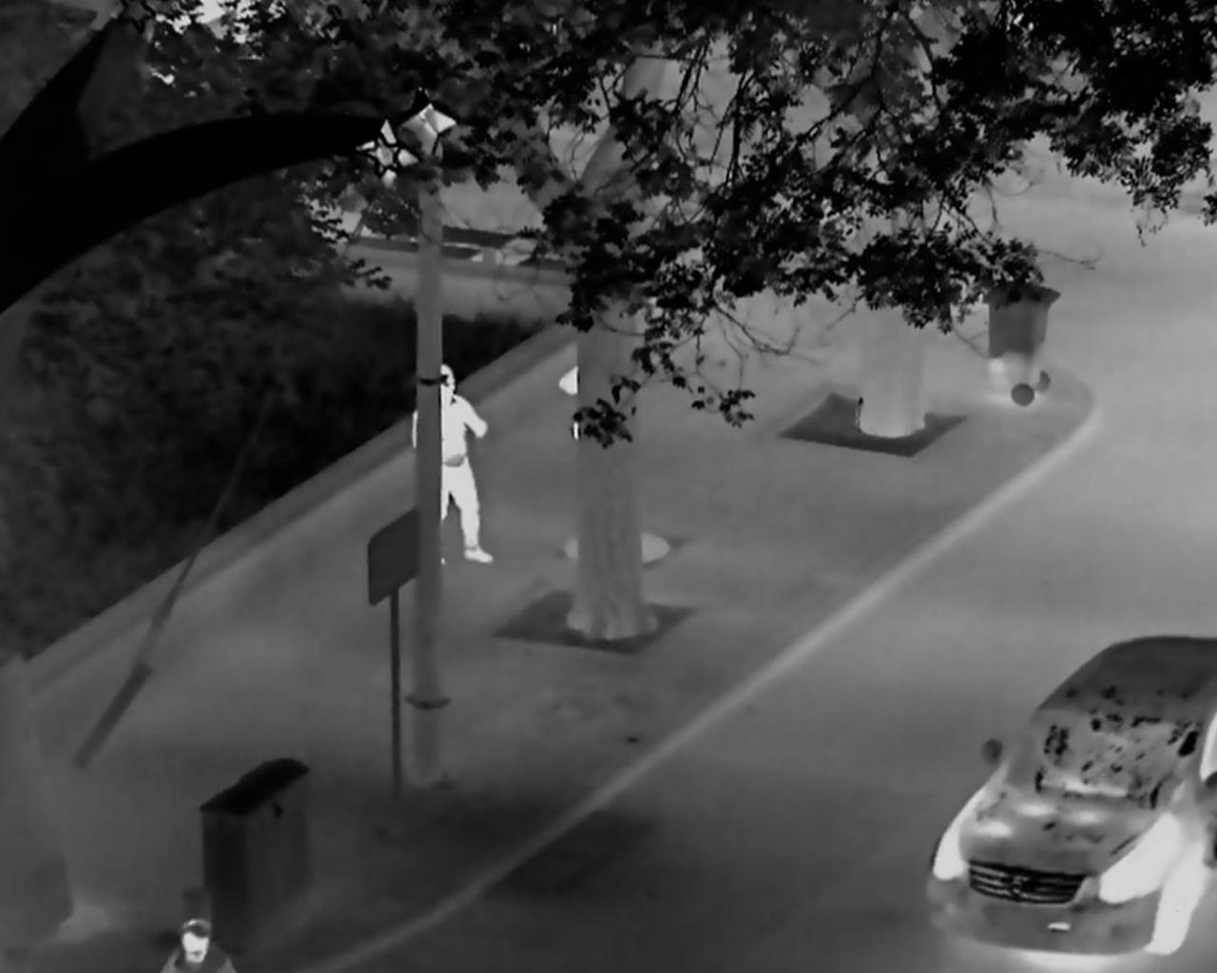person: (409, 364, 493, 565), (158, 920, 236, 973)
